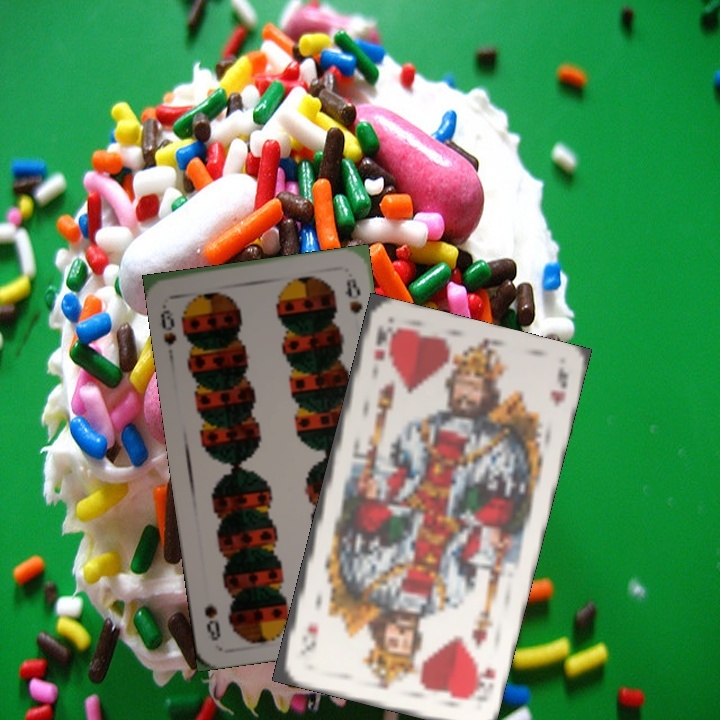HK: (466, 657, 498, 703), (369, 321, 391, 365)
S8: (156, 300, 179, 347)
